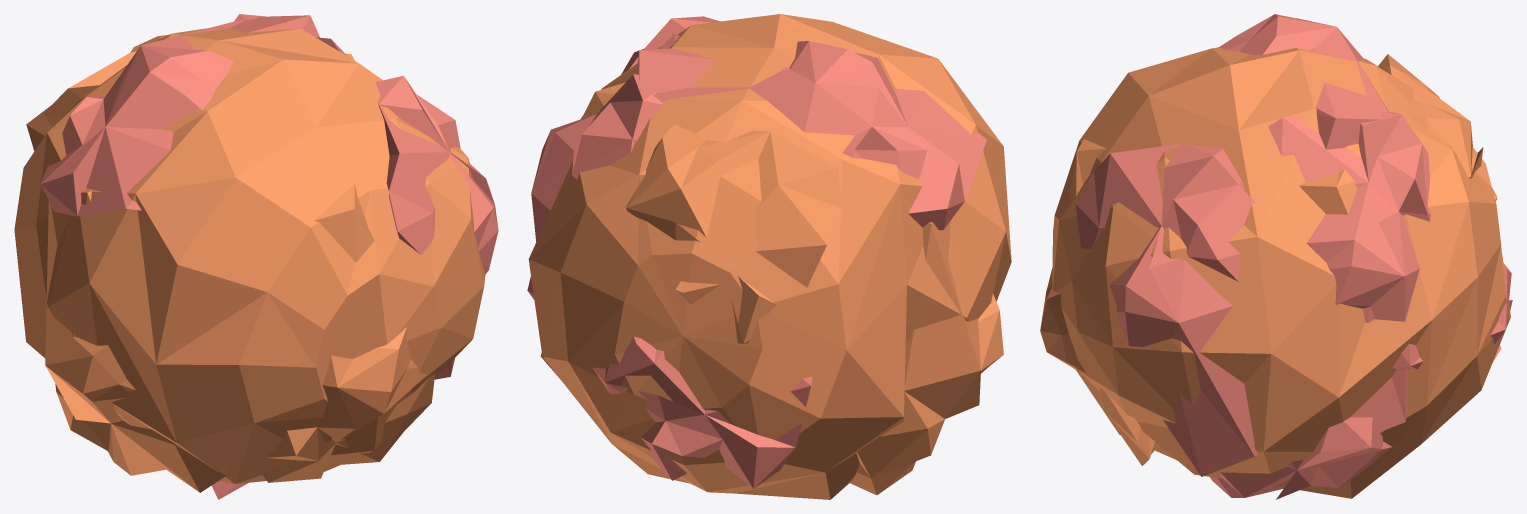
Rendered from mars.gltf.
3 views of the same model, side by side, from view 1: azimuth 30°, elevation 25°; view 2: azimuth 150°, elevation 25°; view 3: azimuth 270°, elevation 25° (orthographic). The views are drawn at different scales.
Visible parts, largest first — view 1: model.167, model.171, model.165, model.166, model.170, model.168; view 2: model.167, model.171, model.168, model.166, model.174, model.173, model.170; view 3: model.167, model.170, model.173, model.171, model.172, model.168, model.165, model.174.
Boxes of the visible parts, <box> form: model.167: <box>14,28,485,483</box>; model.171: <box>40,15,319,216</box>; model.165: <box>261,184,434,482</box>; model.166: <box>45,190,232,492</box>; model.170: <box>375,75,498,379</box>; model.168: <box>26,34,354,150</box>; model.167: <box>528,14,1011,499</box>; model.171: <box>636,41,986,230</box>; model.168: <box>581,82,843,343</box>; model.166: <box>849,220,1003,495</box>; model.174: <box>527,276,812,488</box>; model.173: <box>531,33,679,241</box>; model.170: <box>621,16,720,74</box>; model.167: <box>1052,47,1510,498</box>; model.170: <box>1075,143,1258,476</box>; model.173: <box>1268,112,1430,433</box>; model.171: <box>1218,14,1389,149</box>; model.172: <box>1210,417,1391,499</box>; model.168: <box>1299,54,1497,214</box>; model.165: <box>1040,139,1154,465</box>; model.174: <box>1392,262,1512,369</box>.
Bounding box in the file's own units: 2.42 × 2.43 × 2.51.
